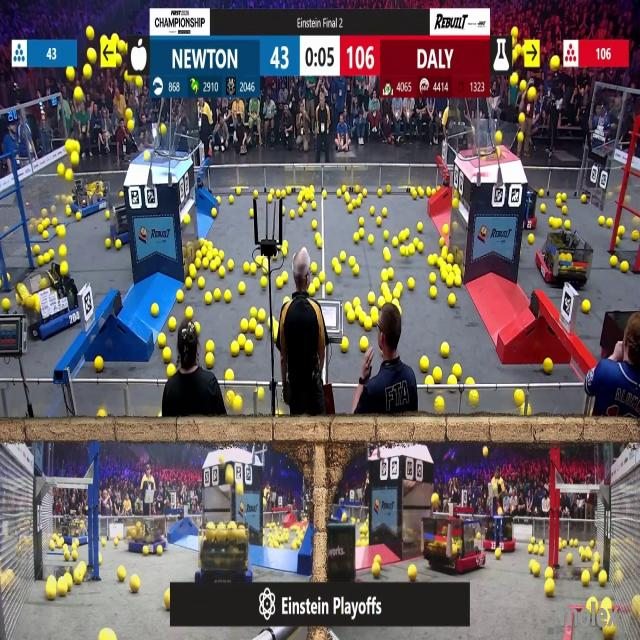ball_airborne: (88, 50, 98, 66), (224, 468, 233, 485), (82, 65, 91, 79), (70, 151, 78, 166), (60, 260, 68, 275), (67, 66, 75, 80), (528, 89, 536, 102), (74, 89, 82, 102), (66, 169, 74, 182), (512, 73, 520, 86), (117, 40, 125, 53), (87, 27, 95, 40), (66, 140, 74, 152), (100, 36, 108, 48), (552, 58, 560, 70), (59, 164, 66, 177), (57, 225, 65, 236), (495, 132, 502, 144), (73, 140, 80, 152), (431, 493, 438, 505), (237, 484, 244, 496), (128, 119, 135, 130), (519, 113, 526, 123), (520, 80, 527, 90), (115, 56, 122, 66), (127, 108, 133, 119), (513, 52, 519, 63), (136, 76, 142, 86), (518, 132, 524, 142), (144, 150, 150, 160), (513, 28, 519, 38), (484, 448, 489, 458), (123, 71, 128, 81), (111, 34, 117, 42), (162, 126, 167, 135), (498, 506, 502, 514)
ball_ground: (45, 582, 56, 601), (603, 625, 614, 640), (58, 582, 68, 598), (544, 581, 553, 598), (434, 396, 443, 413), (542, 358, 552, 373), (515, 390, 525, 405), (598, 570, 607, 586), (101, 630, 115, 640), (165, 591, 172, 610), (132, 578, 140, 594), (409, 565, 418, 579), (468, 391, 477, 405), (421, 356, 429, 371), (232, 342, 240, 357), (74, 570, 83, 583), (96, 356, 104, 370), (442, 343, 450, 357), (360, 338, 368, 352), (206, 353, 214, 367), (164, 348, 172, 362), (245, 342, 253, 356), (583, 571, 591, 585), (373, 563, 381, 577), (370, 308, 377, 323), (583, 301, 591, 314), (454, 363, 462, 376), (241, 319, 249, 332), (433, 366, 441, 379), (2, 299, 10, 312), (532, 563, 540, 576), (342, 339, 349, 353), (117, 567, 124, 581), (235, 396, 242, 410), (185, 308, 193, 320), (169, 318, 177, 330), (159, 336, 167, 348), (150, 305, 158, 317), (257, 310, 265, 322), (223, 290, 231, 302), (622, 262, 630, 274), (324, 282, 332, 294), (256, 388, 264, 400), (382, 283, 390, 295), (348, 311, 355, 324), (205, 291, 212, 304), (206, 342, 214, 353), (544, 567, 552, 578), (198, 278, 206, 289), (276, 278, 284, 289), (262, 277, 270, 288), (399, 231, 407, 242), (602, 598, 610, 609), (225, 367, 232, 379), (449, 293, 456, 305), (168, 363, 175, 375), (367, 292, 374, 304), (255, 326, 262, 338), (429, 286, 436, 298), (384, 249, 391, 261), (213, 290, 220, 302), (364, 319, 371, 331), (355, 304, 362, 316), (454, 277, 462, 287), (426, 376, 434, 386), (308, 286, 316, 296), (554, 217, 562, 227), (61, 246, 68, 257), (239, 283, 246, 294), (336, 265, 343, 276), (378, 295, 385, 306), (410, 278, 416, 290), (388, 270, 394, 282), (450, 376, 458, 385), (564, 219, 572, 228), (238, 336, 246, 345), (177, 290, 184, 300), (632, 232, 639, 242), (393, 288, 400, 298), (619, 225, 626, 235), (250, 308, 257, 318), (218, 268, 225, 278), (316, 238, 323, 248), (345, 303, 352, 313), (210, 262, 217, 272), (249, 319, 256, 329), (331, 256, 338, 266), (155, 544, 162, 554), (188, 268, 195, 278), (349, 255, 356, 265), (381, 271, 388, 281), (525, 408, 532, 418), (610, 255, 616, 266), (185, 278, 191, 289), (353, 266, 359, 277), (341, 251, 347, 262), (282, 273, 288, 284), (319, 272, 325, 283), (203, 257, 209, 268), (466, 377, 473, 386), (353, 296, 360, 305), (605, 218, 612, 227), (99, 411, 106, 420), (444, 223, 450, 233), (244, 264, 250, 274), (115, 240, 121, 250), (312, 264, 318, 274), (227, 262, 233, 272), (528, 235, 534, 245), (429, 274, 435, 284), (250, 265, 256, 275), (392, 238, 398, 248), (495, 550, 501, 560), (410, 245, 416, 255), (142, 545, 148, 555), (428, 254, 434, 264), (418, 243, 424, 253), (183, 214, 189, 224), (34, 246, 40, 256), (452, 200, 458, 210), (194, 257, 200, 267), (314, 279, 320, 289), (44, 254, 50, 264), (419, 187, 425, 197), (442, 271, 448, 281), (448, 276, 454, 286), (255, 255, 261, 265), (35, 258, 41, 268), (303, 202, 309, 212), (588, 600, 593, 612), (15, 294, 21, 304), (195, 322, 200, 333), (567, 554, 572, 565), (106, 240, 112, 249), (312, 220, 318, 229), (358, 217, 364, 226), (400, 246, 406, 255), (377, 216, 383, 225), (562, 206, 568, 215), (66, 207, 72, 216), (297, 207, 303, 216), (547, 217, 553, 226), (282, 248, 288, 257), (448, 254, 454, 263), (539, 204, 545, 213), (386, 294, 392, 303), (66, 552, 72, 561), (72, 552, 78, 561), (212, 208, 217, 218), (354, 234, 359, 244), (539, 544, 544, 554), (215, 256, 220, 266), (635, 216, 640, 226), (264, 257, 269, 267), (297, 193, 302, 203), (392, 297, 399, 304), (360, 526, 367, 533), (395, 282, 401, 290), (348, 205, 354, 213), (538, 188, 544, 196), (42, 232, 48, 240), (556, 200, 562, 208), (358, 230, 364, 238), (218, 250, 224, 258), (580, 197, 586, 205), (413, 190, 419, 198), (195, 250, 201, 258), (442, 248, 448, 256), (356, 200, 362, 208), (252, 190, 258, 198), (276, 189, 282, 197), (202, 248, 208, 256), (454, 266, 460, 274), (384, 232, 389, 241), (249, 209, 254, 218), (599, 216, 604, 225), (383, 208, 388, 217), (269, 193, 274, 202), (345, 192, 350, 201), (48, 250, 53, 259), (426, 187, 431, 196), (101, 538, 107, 545), (418, 222, 423, 230), (441, 239, 446, 247), (312, 203, 317, 211), (113, 538, 118, 546), (283, 240, 288, 248), (362, 188, 367, 196), (562, 192, 567, 200), (237, 187, 242, 195), (291, 541, 296, 549), (343, 512, 348, 520), (76, 212, 80, 221), (290, 210, 294, 219), (368, 236, 372, 245), (528, 543, 532, 552), (338, 190, 343, 197), (51, 218, 56, 225), (386, 185, 391, 192), (376, 556, 381, 563), (273, 321, 278, 328), (106, 211, 110, 219), (617, 238, 621, 246), (379, 188, 383, 196), (99, 556, 103, 564), (369, 208, 373, 215), (322, 190, 326, 197), (228, 198, 232, 205), (119, 190, 123, 197), (282, 208, 286, 215), (274, 254, 278, 261), (217, 198, 220, 205)
goal: (468, 124, 520, 161), (126, 128, 186, 160)
robot_blue: (30, 259, 84, 339), (197, 523, 250, 593), (71, 178, 111, 218), (125, 518, 165, 555), (61, 518, 88, 546)
robot_red: (420, 517, 485, 576), (538, 228, 592, 288), (484, 512, 517, 550), (524, 193, 538, 231)
